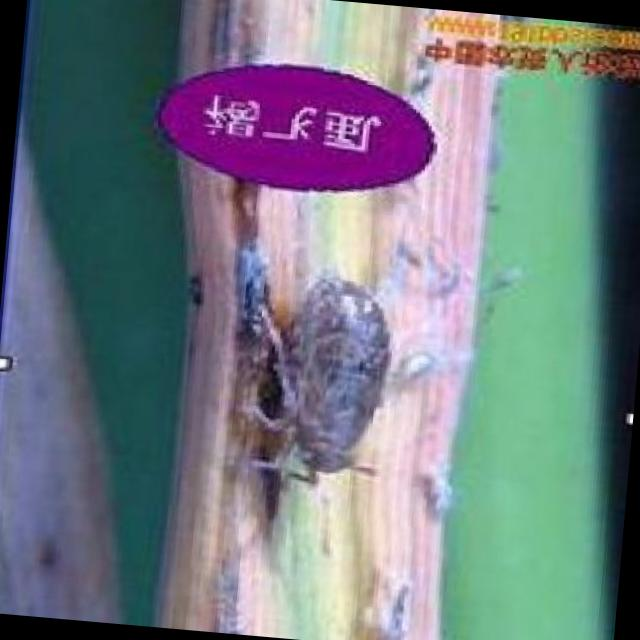brown-planthopper: (246, 269, 409, 484)
